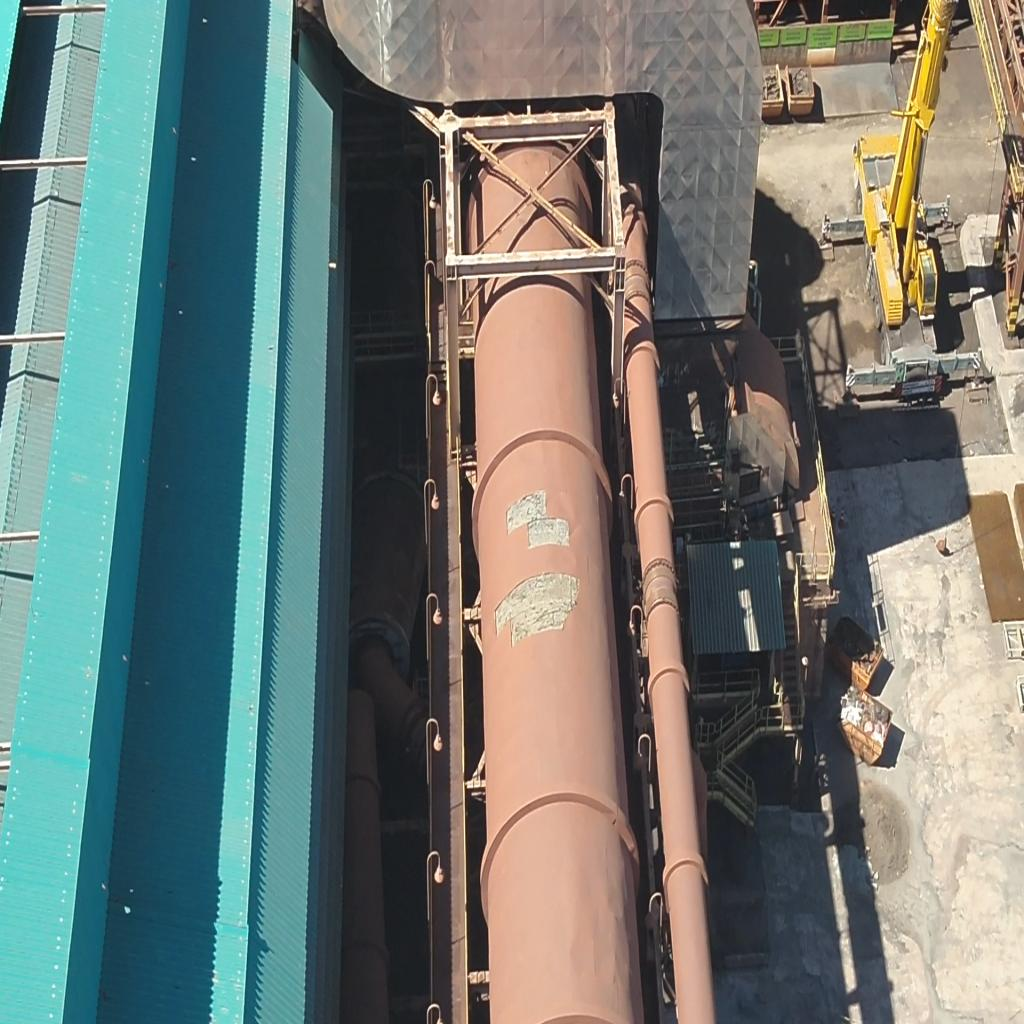Failures: (489, 571, 583, 643), (502, 485, 574, 553)
